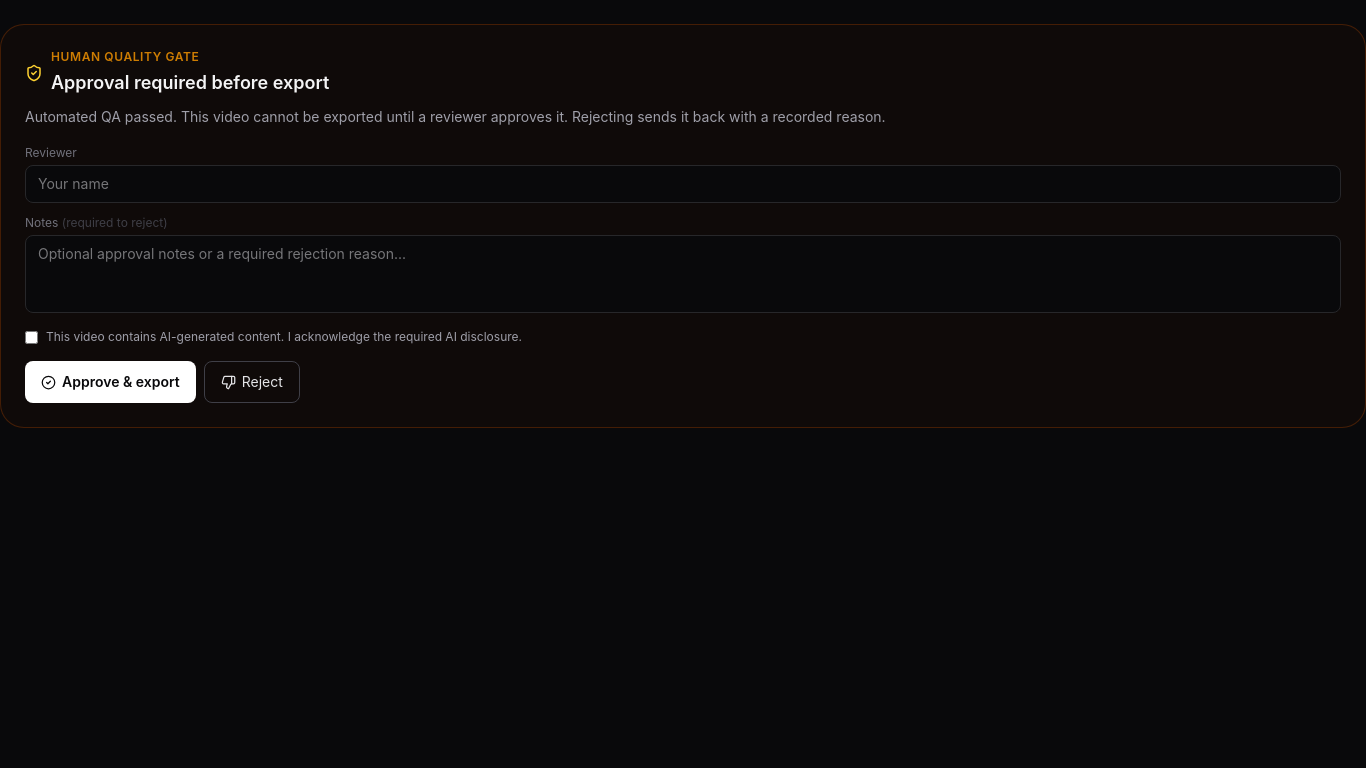
Scenario: ApprovalPanel › requires a reviewer before approving
This screenshot has width=1366, height=768.
Click the button "Approve & export": click(110, 382) [25,361,196,403]
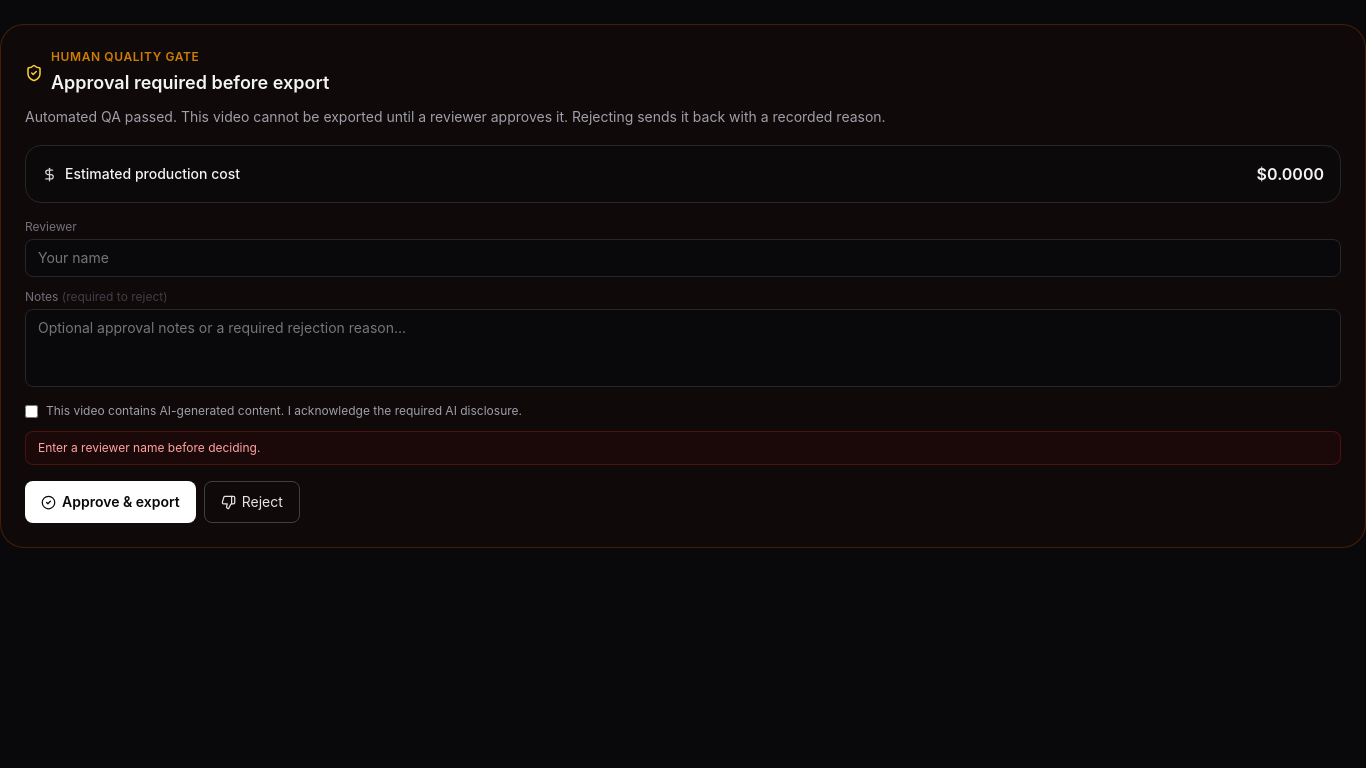
Check: the text "Enter a reviewer name before deciding." is shown, box [25,431,1341,465]
